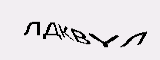В: (68, 26, 90, 48)
Д: (41, 21, 62, 41)
Л: (119, 30, 148, 46), (21, 20, 39, 37)
Қ: (56, 22, 74, 41)
Ү: (89, 30, 116, 49)
